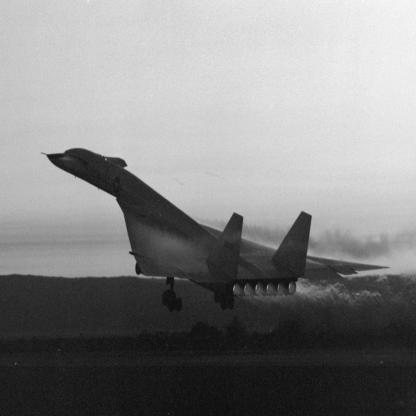XB70: (41, 149, 392, 314)
